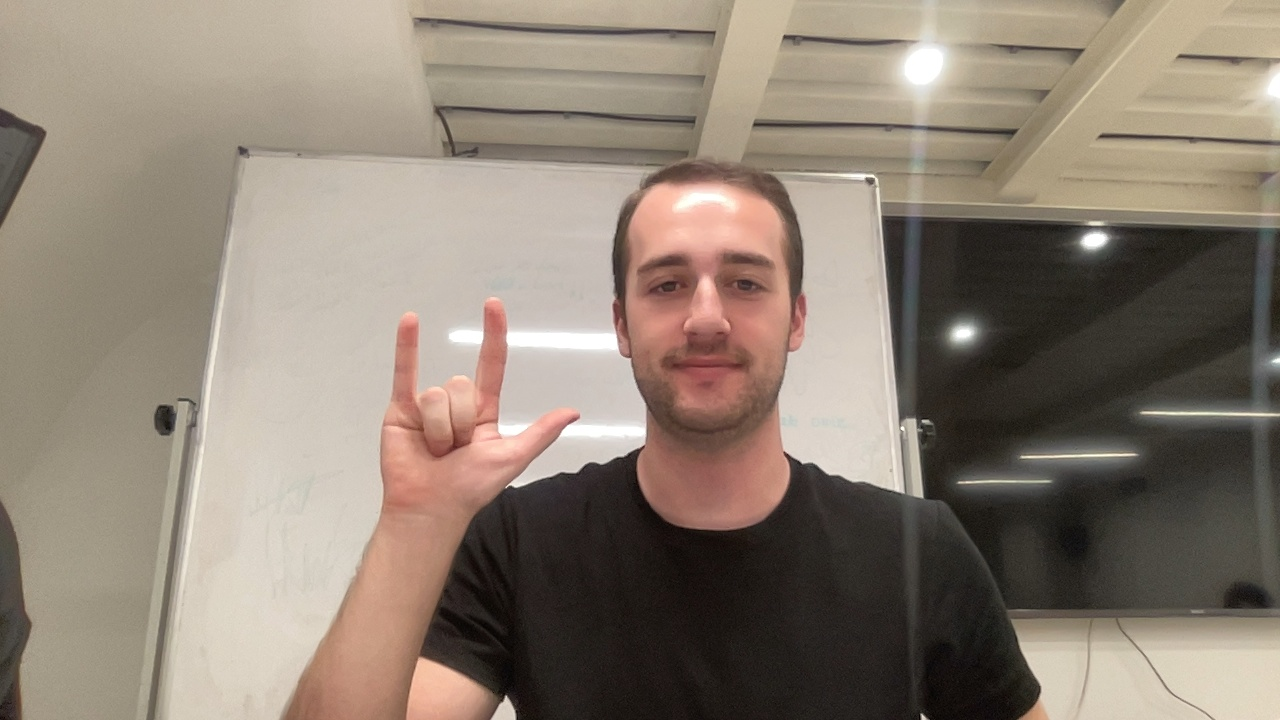I Love You: (372, 289, 589, 543)
